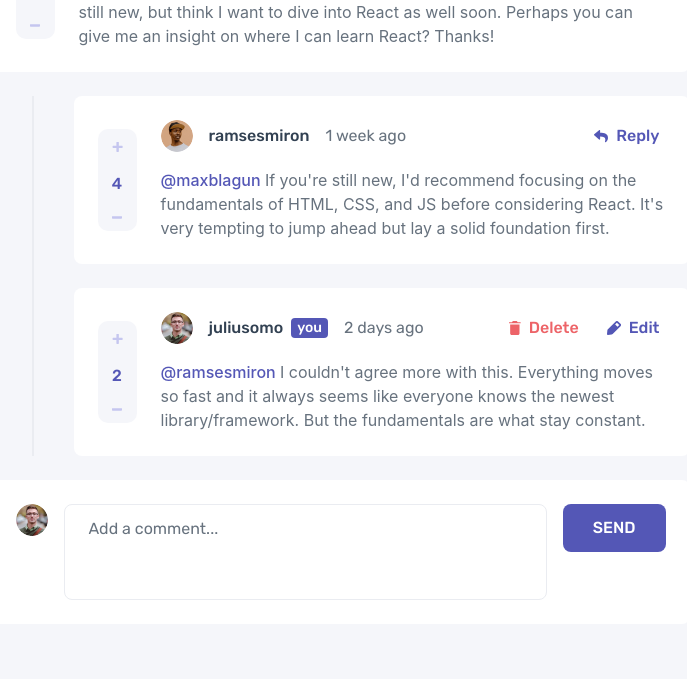
it: App › adds a new comment
The image size is (687, 679).
(page scrolled)
Step 1. Type "My new comment" into the text box labelled "Add a comment" → (305,552), box [64,504,547,600]
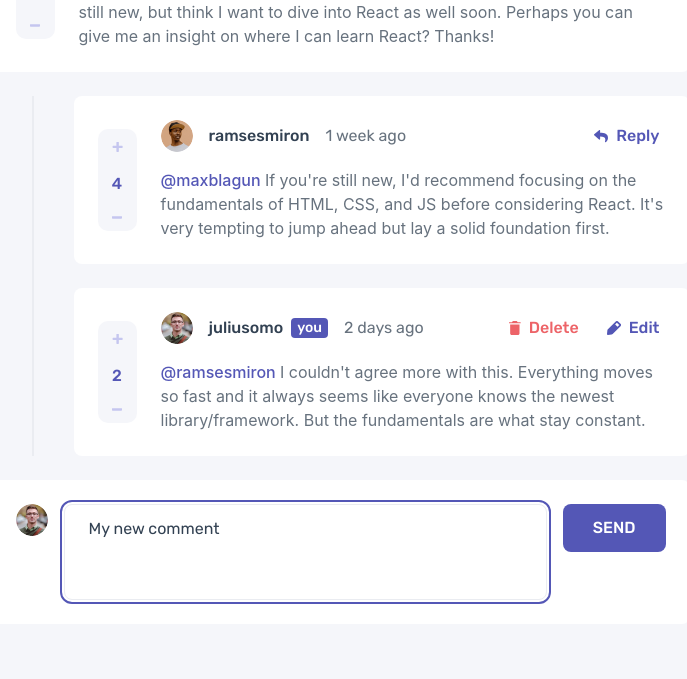
Step 2. Click the button "Send" → (614,528), box [563,504,666,552]
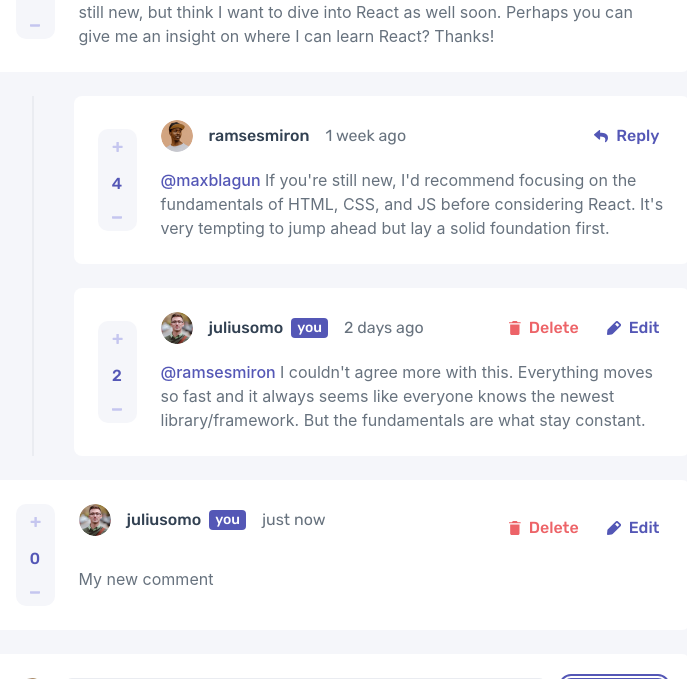
Now the text "My new comment" is shown, box [78,569,213,589]
